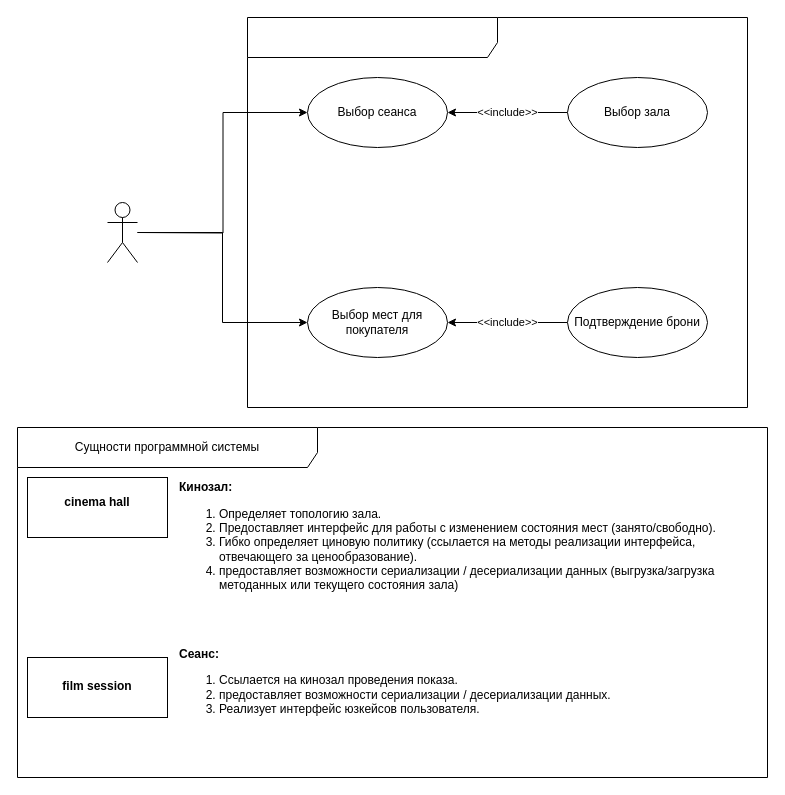
This 785x795 diagram has some shape labels left out. The shapes that lost their labels are listed below. From the top down, each one's centre as x and y in pixels, then its label:
At [122,232]: "Оператор АРМ кассира кинотеатра".
At [497,212]: "АРМ кассира кинотеатра".
